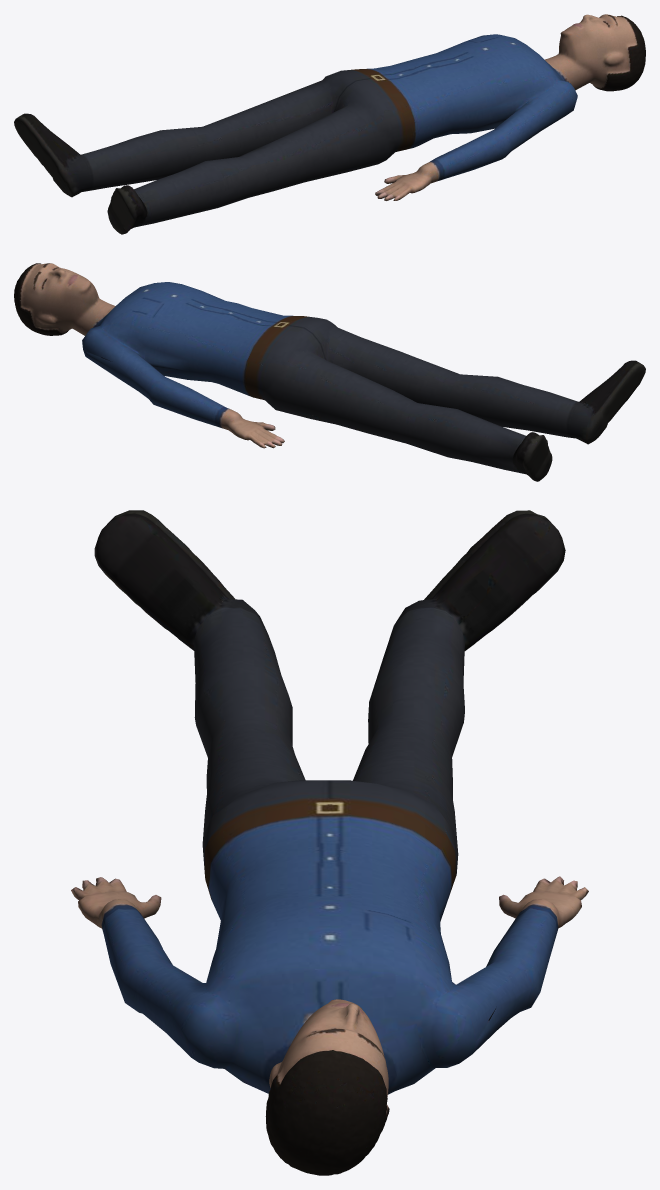
File: victim_male_face_up.glb
The picture shows the model from 3 angles, top to bottom: view 1: azimuth 30°, elevation 25°; view 2: azimuth 150°, elevation 25°; view 3: azimuth 270°, elevation 25°; orthographic projection. The views are drawn at different scales.
Visible parts, largest first — view 1: victim_male_face_up; view 2: victim_male_face_up; view 3: victim_male_face_up.
Part boxes in pixels (x1=…): victim_male_face_up: x1=14, y1=14, x2=645, y2=234; victim_male_face_up: x1=14, y1=263, x2=645, y2=481; victim_male_face_up: x1=71, y1=510, x2=588, y2=1175.
Bounding box in the file's own units: 1.82 × 0.2222 × 0.7159.
1 material, 1 textured.
